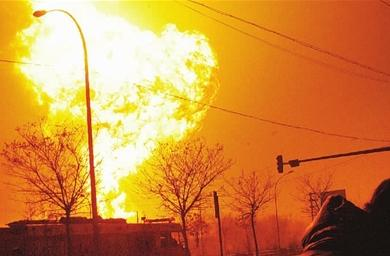fire: (11, 3, 219, 217)
